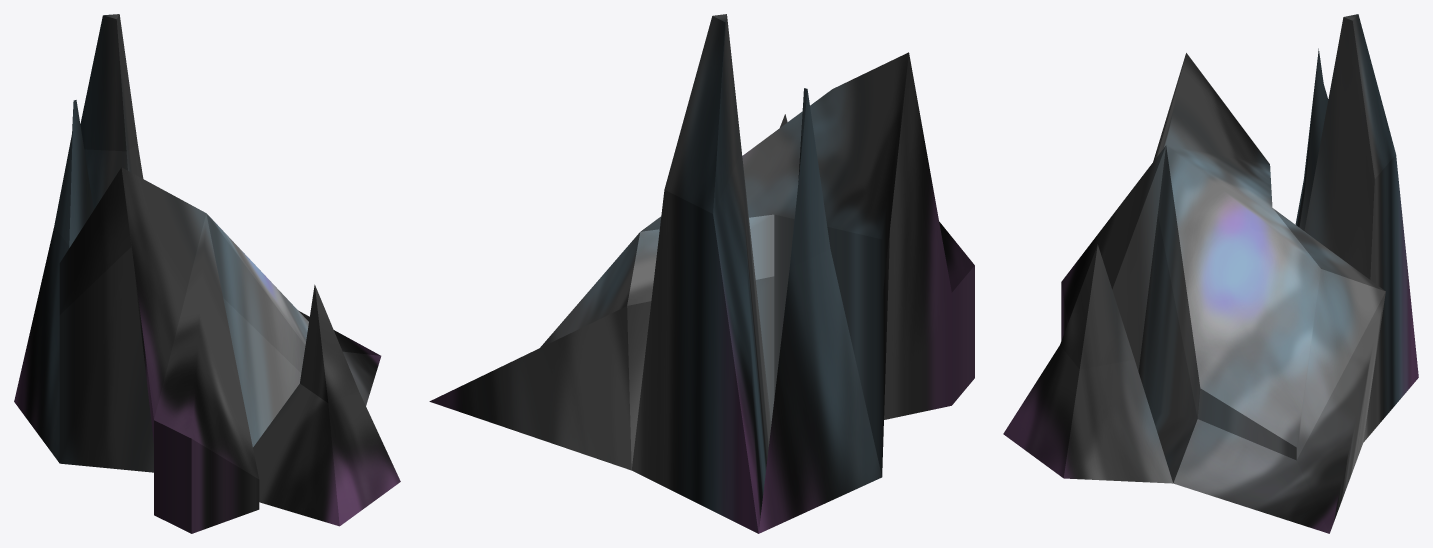
Rendered from Mountain1.fbx.
The picture shows the model from 3 angles, left to right: view 1: azimuth 30°, elevation 25°; view 2: azimuth 150°, elevation 25°; view 3: azimuth 270°, elevation 25°; orthographic projection. The views are drawn at different scales.
Visible parts, largest first — view 1: Mountain1; view 2: Mountain1; view 3: Mountain1.
Part boxes in pixels (<box>): Mountain1: <box>14,14,400,533</box>; Mountain1: <box>429,14,974,533</box>; Mountain1: <box>1003,14,1418,533</box>.
Size of the model in its own units: 2218 by 2377 by 2285.
